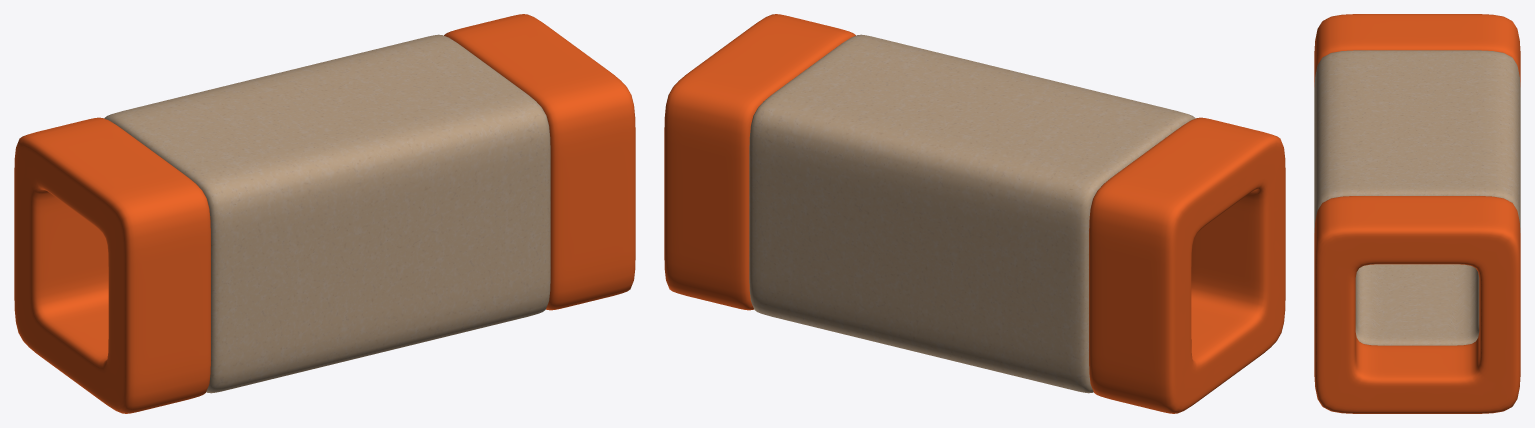
File: Falling Platform.fbx
The picture shows the model from 3 angles, left to right: view 1: azimuth 30°, elevation 25°; view 2: azimuth 150°, elevation 25°; view 3: azimuth 270°, elevation 25°; orthographic projection. The views are drawn at different scales.
Parts seen in each view (by area): view 1: Falling Platform; view 2: Falling Platform; view 3: Falling Platform.
Boxes of the visible parts, x1,y1,x2,y2 form: Falling Platform: (14,14,635,413); Falling Platform: (664,14,1285,413); Falling Platform: (1314,14,1520,413).
Bounding box in the file's own units: 300 × 120 × 120.
